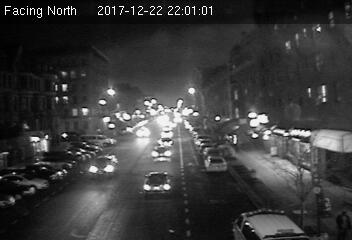car: (142, 170, 173, 196), (89, 155, 119, 179), (204, 156, 227, 173), (151, 146, 172, 162), (157, 137, 175, 148), (136, 126, 150, 137)
police: (228, 207, 312, 240)
